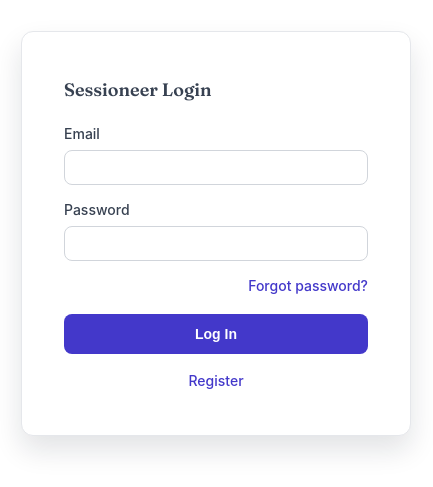
Test: FE-15 a server error is shown to the user
Step 1. Type "a@b.test" into the field named "email" → x=216, y=167, box [64,150,368,184]
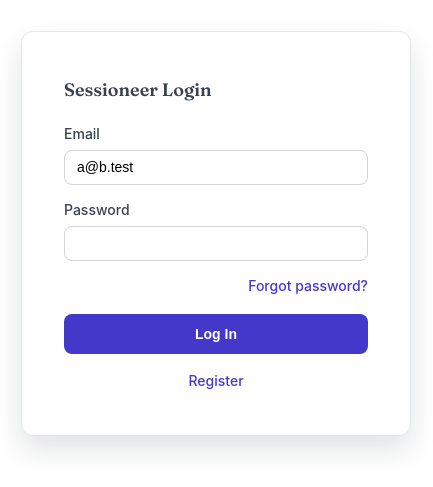
Step 2. Type "nope" into the password field named "password" → x=216, y=243, box [64,226,368,260]
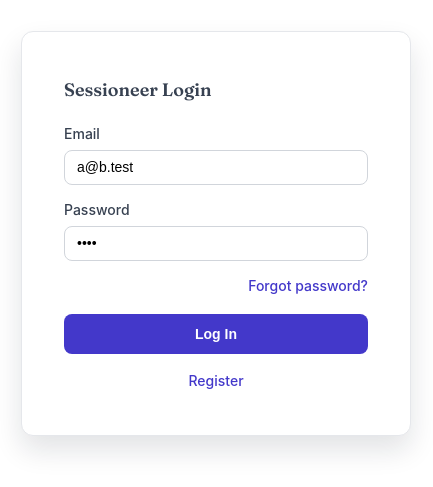
Step 3. Click the button "Log In" → x=216, y=334, box [64,314,368,354]
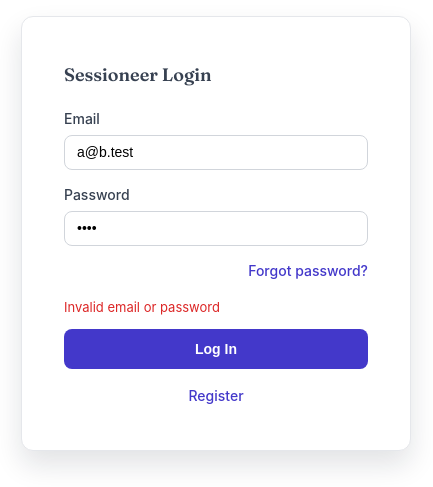
Now the text "Invalid email or password" is shown, box [64,298,220,314]
